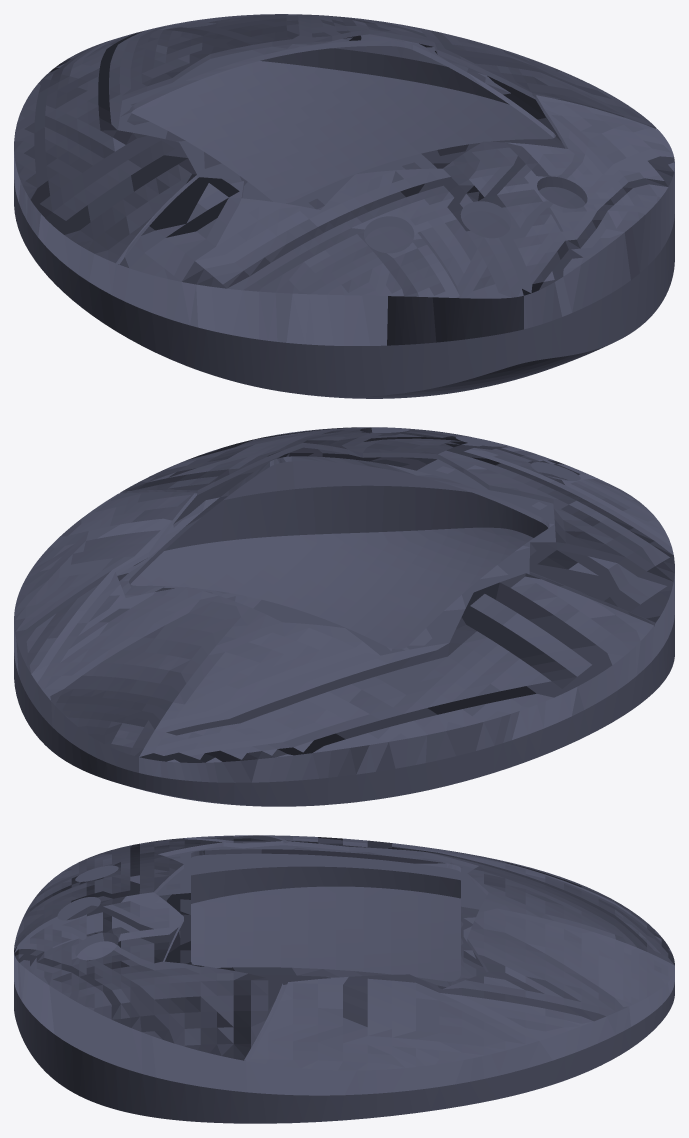
Rendered from Astronaut.glb.
3 views of the same model, one above another, from view 1: azimuth 30°, elevation 25°; view 2: azimuth 150°, elevation 25°; view 3: azimuth 270°, elevation 25° (orthographic). The views are drawn at different scales.
Parts seen in each view (by area): view 1: たまごっち v1; view 2: たまごっち v1; view 3: たまごっち v1.
Part boxes in pixels (left/top/right/bottom): たまごっち v1: left=14, top=14, right=674, bottom=398; たまごっち v1: left=14, top=427, right=674, bottom=806; たまごっち v1: left=14, top=835, right=674, bottom=1123.
Size of the model in its own units: 0.3676 by 0.1332 by 0.4409.
